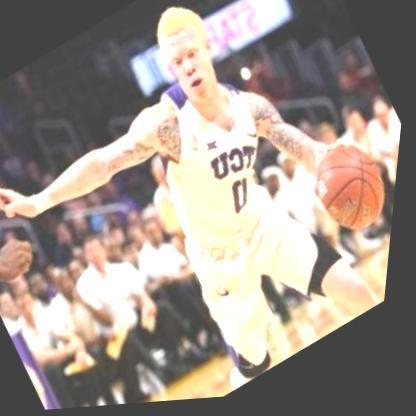basketball: (293, 129, 404, 259)
